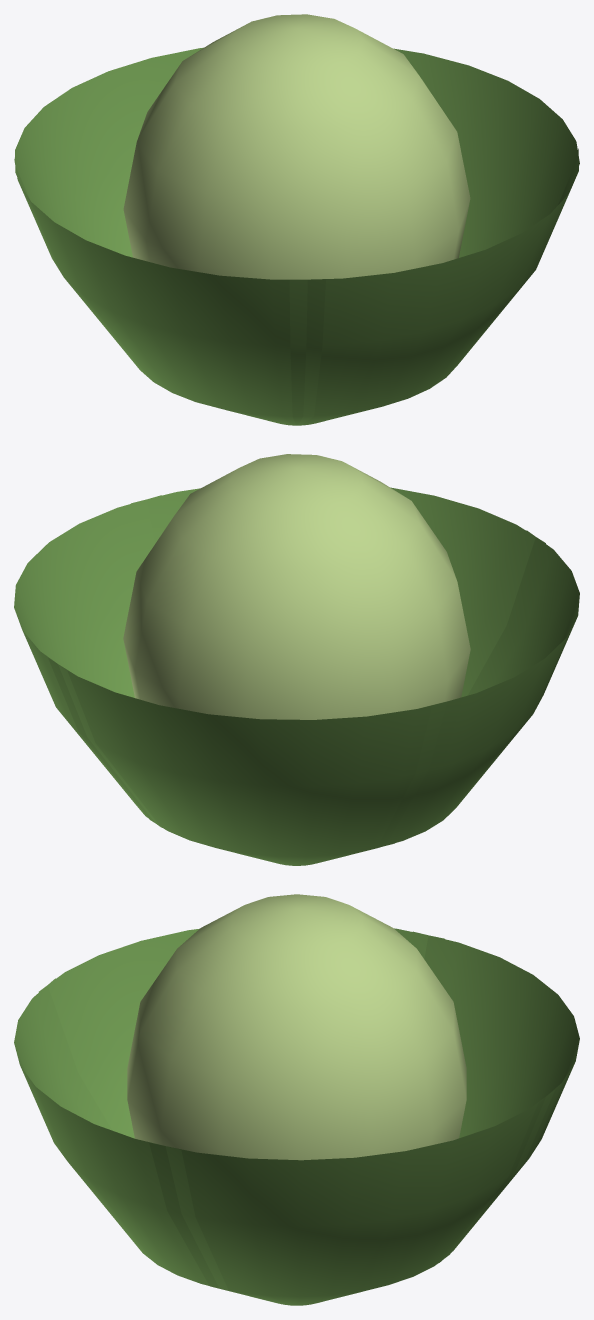
File: cabbage.glb
The picture shows the model from 3 angles, top to bottom: view 1: azimuth 30°, elevation 25°; view 2: azimuth 150°, elevation 25°; view 3: azimuth 270°, elevation 25°; orthographic projection.
Visible parts, largest first — view 1: cabbage; view 2: cabbage; view 3: cabbage.
Boxes of the visible parts, x1=… form: cabbage: x1=14, y1=14, x2=579, y2=425; cabbage: x1=14, y1=454, x2=579, y2=865; cabbage: x1=14, y1=894, x2=579, y2=1305.
Size of the model in its own units: 0.2343 by 0.1743 by 0.2343.
